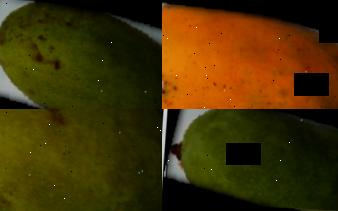Ripe: (162, 0, 338, 109)
Unripe: (162, 109, 338, 211), (0, 0, 162, 109), (0, 109, 162, 211)
